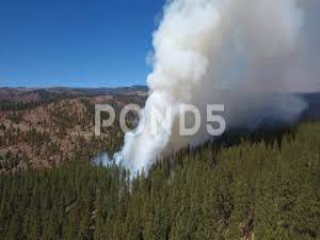smoke: (117, 12, 211, 189)
